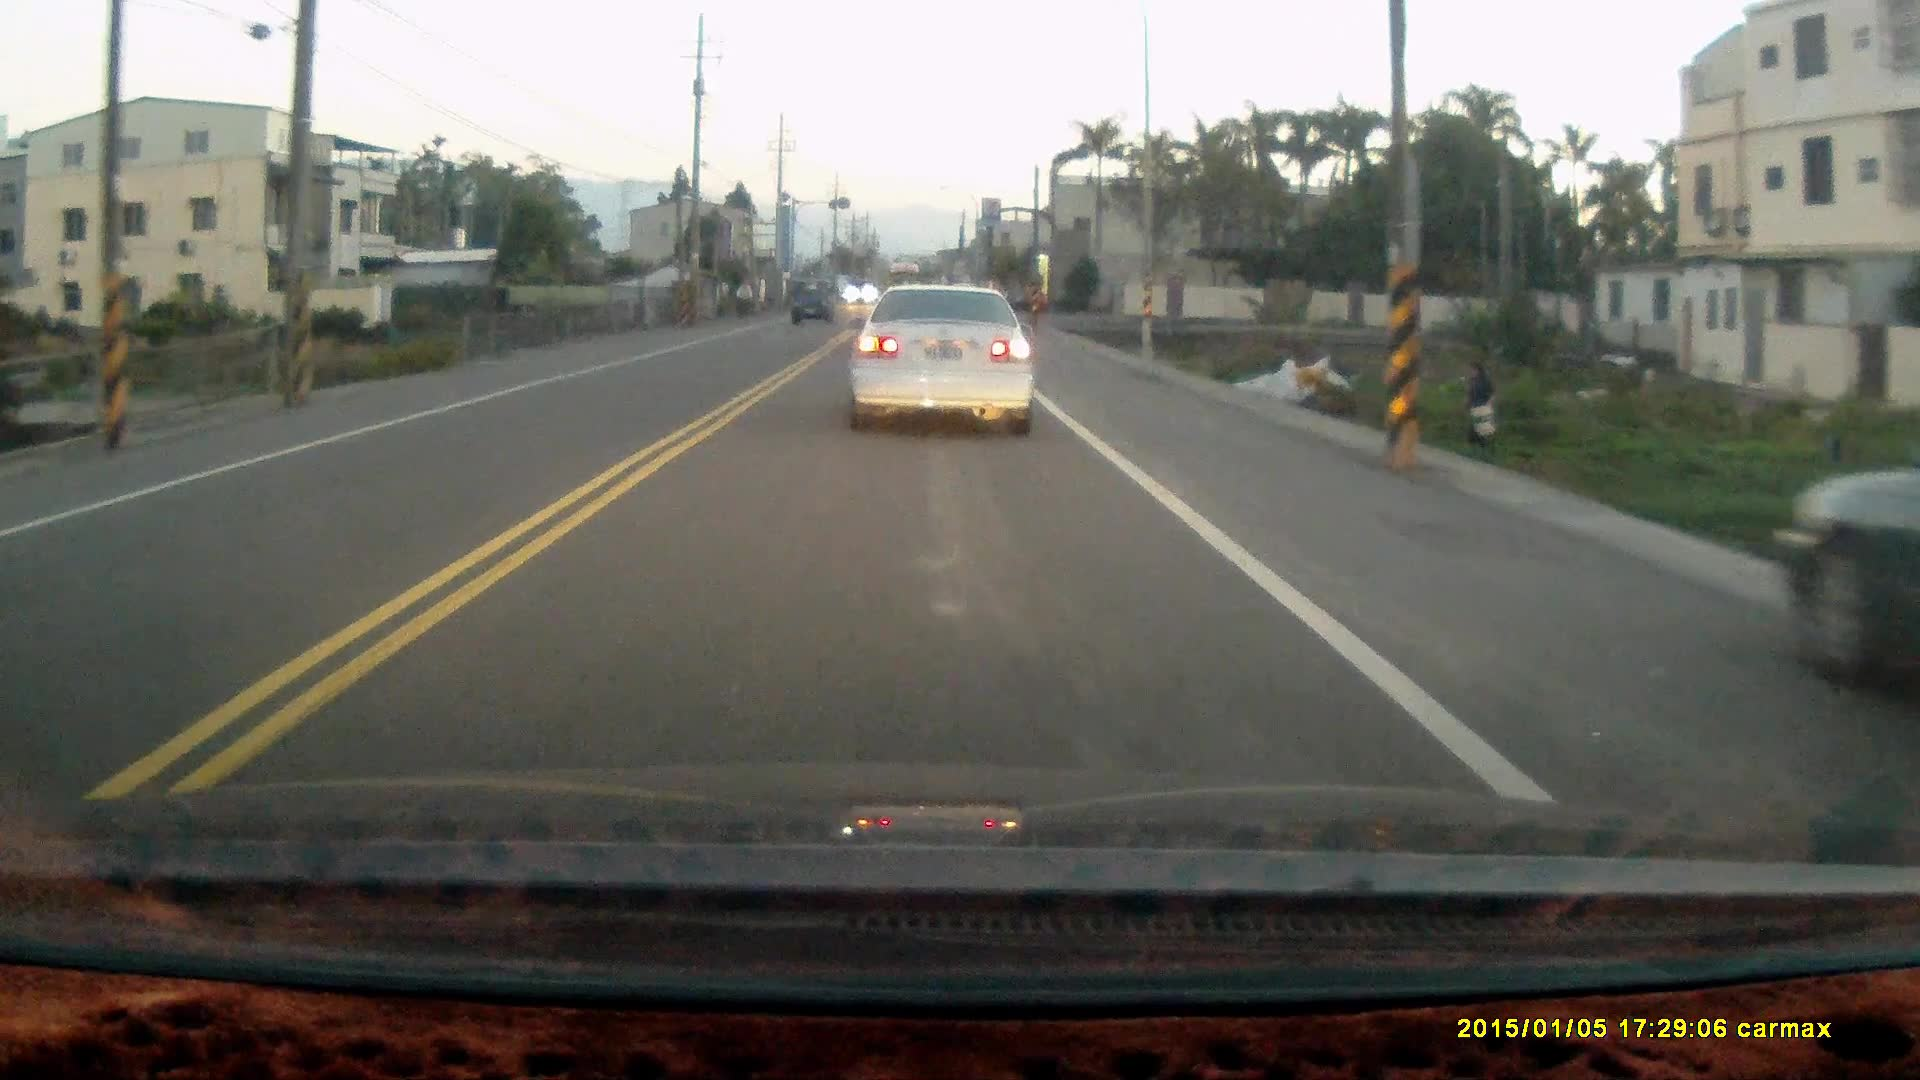pedestrian: (1462, 356, 1498, 446)
rider: (732, 273, 753, 319)
vehicle: (1699, 381, 1920, 689), (851, 289, 1041, 432), (791, 284, 840, 328)
